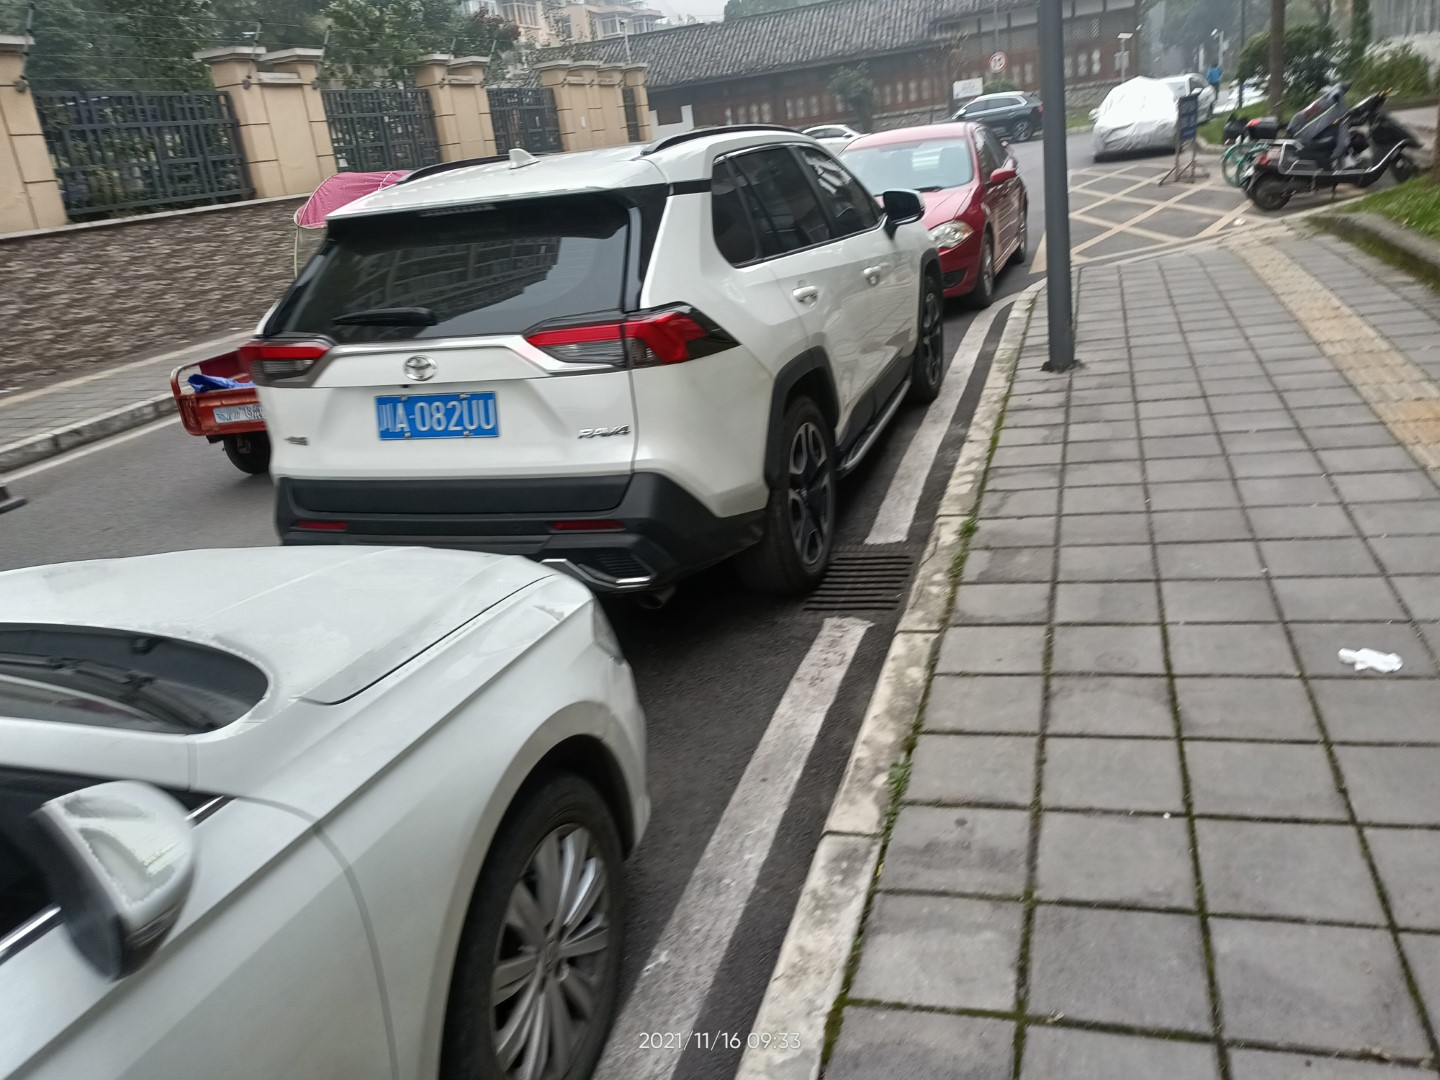plate: (373, 390, 500, 440)
